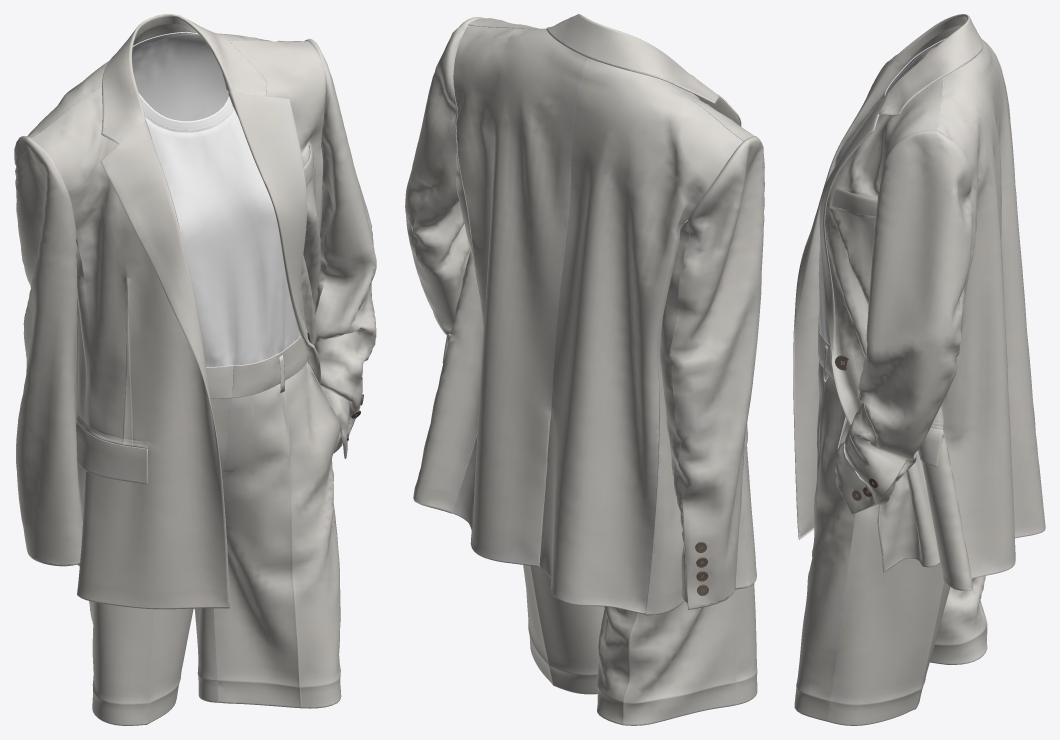
The model's file is suit.glb.
3 views of the same model, side by side, from view 1: azimuth 30°, elevation 25°; view 2: azimuth 150°, elevation 25°; view 3: azimuth 270°, elevation 25° (orthographic). The views are drawn at different scales.
Visible parts, largest first — view 1: body-1, body-5, body-2, body-7, body-3, body-8, body-4, body-9, body-12, body-6, body-11; view 2: body-4, body-2, body-7, body-6, body-10, body-8, body-9, body-11, body-1; view 3: body-8, body-2, body-3, body-11, body-5, body-4, body-1, body-6, body-9, body-10.
Part boxes in pixels (<box>): body-1: <box>31,86,229,609</box>; body-5: <box>132,31,341,708</box>; body-2: <box>144,33,303,392</box>; body-7: <box>14,136,82,566</box>; body-3: <box>226,40,325,384</box>; body-8: <box>304,38,376,459</box>; body-4: <box>27,61,232,725</box>; body-9: <box>74,14,307,421</box>; body-12: <box>132,34,309,155</box>; body-6: <box>76,152,322,593</box>; body-11: <box>133,23,314,702</box>; body-4: <box>539,58,757,704</box>; body-2: <box>452,25,588,566</box>; body-7: <box>669,136,764,609</box>; body-6: <box>413,125,749,615</box>; body-10: <box>597,590,736,725</box>; body-8: <box>405,17,483,335</box>; body-9: <box>546,14,719,603</box>; body-11: <box>523,565,604,694</box>; body-1: <box>670,83,756,586</box>; body-8: <box>835,130,972,514</box>; body-2: <box>818,45,1015,578</box>; body-3: <box>819,77,943,572</box>; body-11: <box>827,25,962,725</box>; body-5: <box>794,38,946,721</box>; body-4: <box>982,39,1045,538</box>; body-1: <box>793,48,933,539</box>; body-6: <box>918,210,975,590</box>; body-9: <box>840,14,983,443</box>; body-10: <box>930,576,987,664</box>.
Size of the model in its own units: 0.5509 by 1.04 by 0.363.
3 materials, 1 textured.
